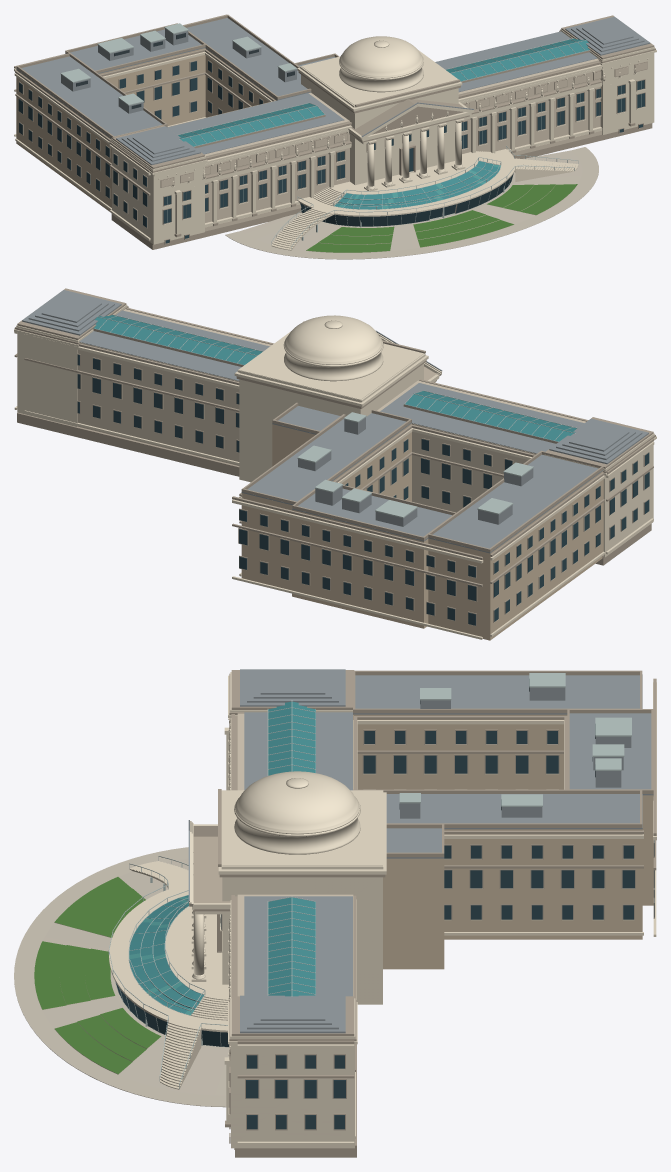
Rendered from Museum_P25.glb.
3 renders of one model, top to bottom at view 1: azimuth 30°, elevation 25°; view 2: azimuth 150°, elevation 25°; view 3: azimuth 270°, elevation 25°, orthographic. The views are drawn at different scales.
Parts seen in each view (by area): view 1: 01_Masonry, 07_Roof, 02_Classical_facade, 09_Plaza, 03_Portico_dome, 08_Glass_pavilion, 06_Courtyard_and_sides, 05_Statuary, 04_Entrance; view 2: 01_Masonry, 07_Roof, 06_Courtyard_and_sides, 03_Portico_dome, 02_Classical_facade; view 3: 07_Roof, 01_Masonry, 09_Plaza, 06_Courtyard_and_sides, 03_Portico_dome, 08_Glass_pavilion, 02_Classical_facade.
Boxes of the visible parts, x1,y1,x2,y2 form: 01_Masonry: (16, 48, 654, 249); 07_Roof: (16, 14, 650, 165); 02_Classical_facade: (109, 15, 656, 244); 09_Plaza: (225, 147, 598, 259); 03_Portico_dome: (297, 36, 473, 192); 08_Glass_pavilion: (271, 146, 578, 250); 06_Courtyard_and_sides: (14, 14, 275, 240); 05_Statuary: (171, 68, 637, 187); 04_Entrance: (366, 125, 447, 175); 01_Masonry: (17, 309, 653, 640); 07_Roof: (22, 290, 648, 553); 06_Courtyard_and_sides: (14, 327, 654, 639); 03_Portico_dome: (234, 315, 442, 408); 02_Classical_facade: (14, 288, 656, 524); 07_Roof: (240, 669, 653, 1033); 01_Masonry: (222, 713, 653, 1157); 09_Plaza: (14, 847, 230, 1107); 06_Courtyard_and_sides: (237, 678, 656, 1145); 03_Portico_dome: (188, 771, 386, 986); 08_Glass_pavilion: (108, 856, 229, 1089); 02_Classical_facade: (224, 670, 357, 1149).
Size of the model in its own units: 171 by 42.38 by 127.
